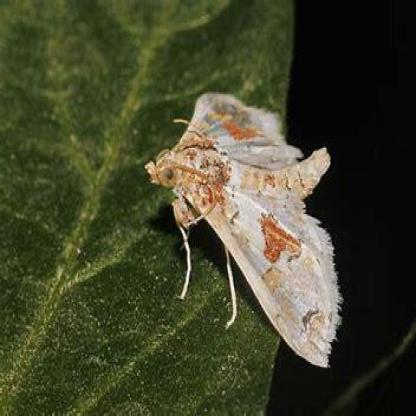leucinodes: (149, 91, 337, 367)
